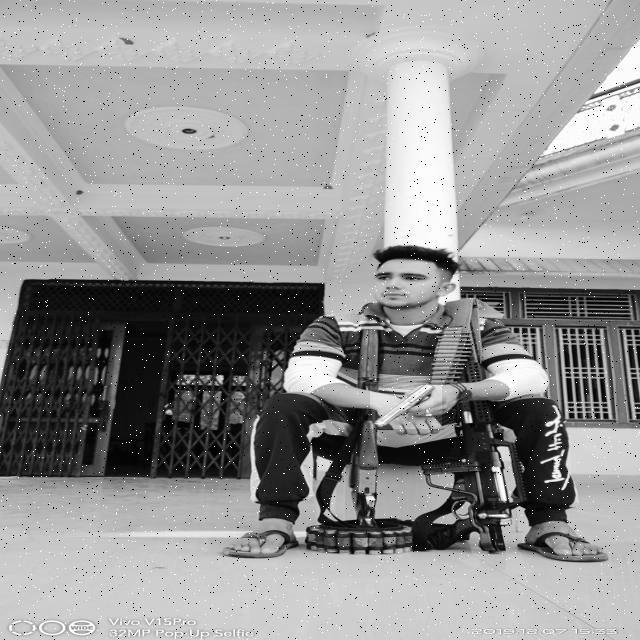non-violence: (225, 245, 606, 564)
weapon: (370, 383, 442, 429)
